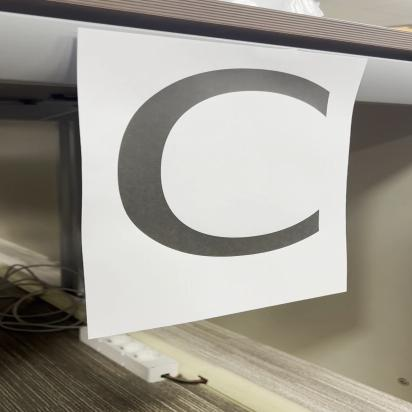seat: (90, 31, 366, 304)
